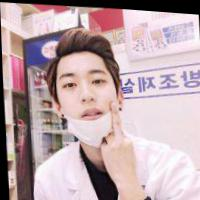WRONG: (55, 61, 126, 143)
